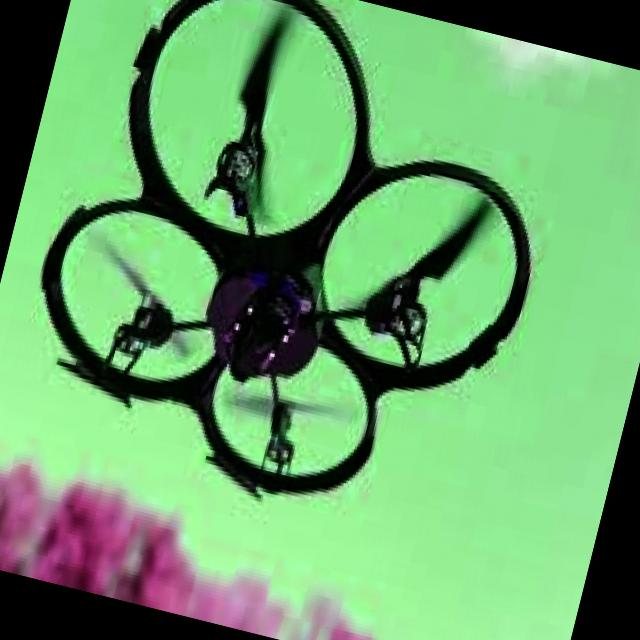drone: (0, 0, 597, 571)
